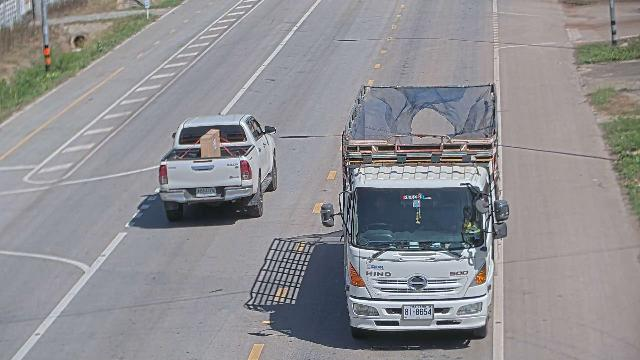pickup-truck: (156, 113, 278, 221)
truck: (321, 81, 504, 339)
